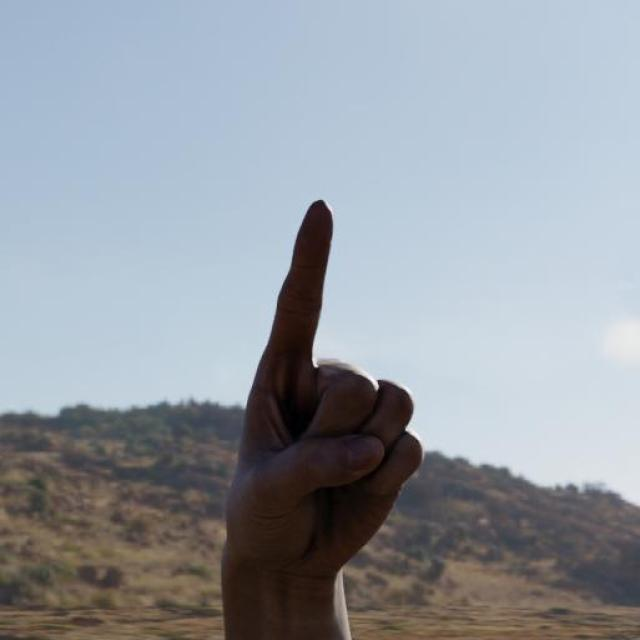Z: (216, 188, 427, 588)
